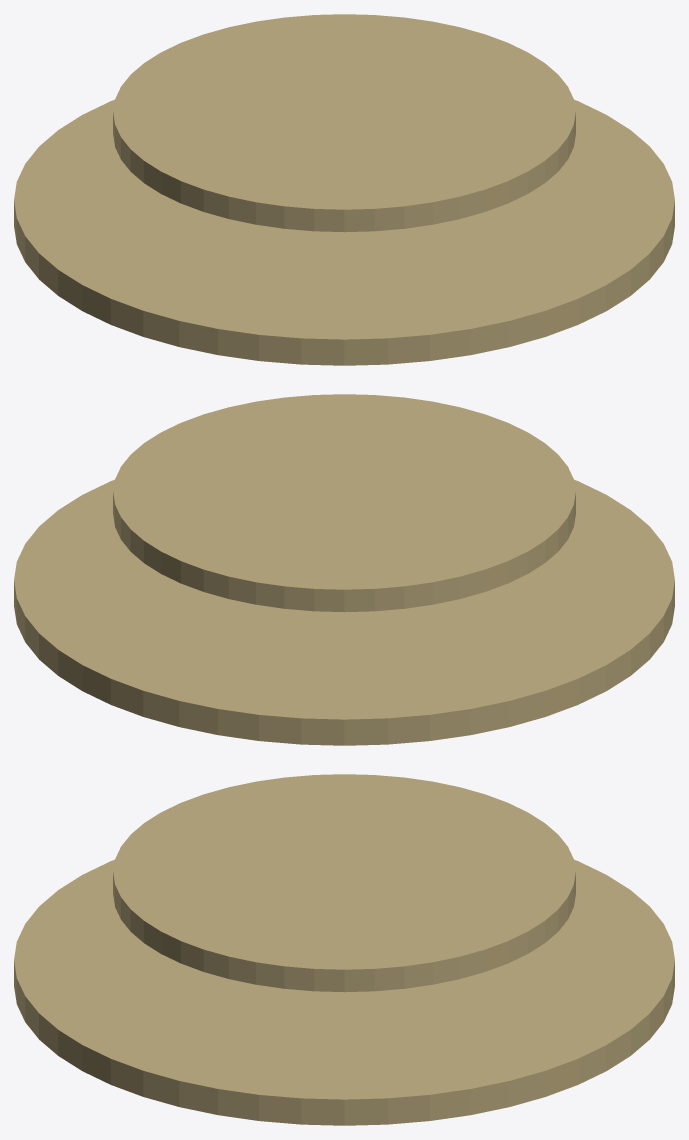
File: chandelier-orbit.glb
3 views of the same model, one above another, from view 1: azimuth 30°, elevation 25°; view 2: azimuth 150°, elevation 25°; view 3: azimuth 270°, elevation 25° (orthographic).
Visible parts, largest first — view 1: chandelier-orbit_0, chandelier-orbit_1; view 2: chandelier-orbit_0, chandelier-orbit_1; view 3: chandelier-orbit_0, chandelier-orbit_1.
Part boxes in pixels (x1,y1,x2,y2): chandelier-orbit_0: (14,99,674,365); chandelier-orbit_1: (113,14,575,232); chandelier-orbit_0: (14,479,674,745); chandelier-orbit_1: (113,394,575,612); chandelier-orbit_0: (14,859,674,1125); chandelier-orbit_1: (113,774,575,992).
Size of the model in its own units: 0.8 by 0.255 by 0.8.
